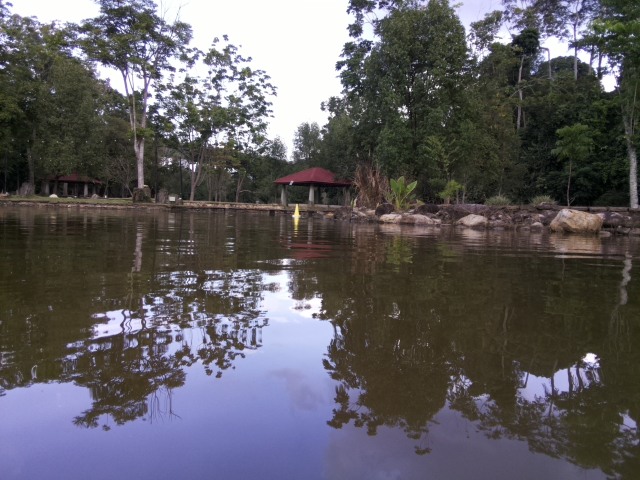checkpoint: (289, 204, 304, 220)
